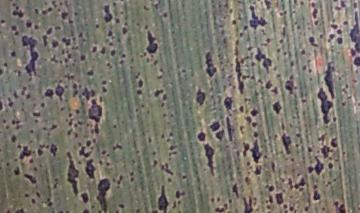tarspot: (61, 150, 81, 198), (20, 34, 41, 78), (313, 86, 332, 126), (253, 45, 275, 75), (322, 59, 338, 100), (95, 176, 112, 213), (247, 2, 268, 30), (201, 141, 217, 176), (201, 50, 219, 79), (233, 55, 245, 98), (143, 28, 161, 56), (86, 98, 105, 123), (350, 9, 360, 56), (156, 183, 170, 213), (279, 129, 294, 156), (249, 139, 263, 164), (83, 156, 97, 180), (223, 116, 234, 144), (101, 2, 113, 26), (283, 73, 296, 95), (21, 173, 42, 186), (193, 87, 207, 106), (17, 145, 33, 161), (270, 98, 285, 115), (333, 195, 346, 213), (222, 93, 233, 114), (307, 34, 320, 51), (229, 181, 241, 199), (320, 143, 332, 161), (241, 197, 254, 213), (239, 139, 251, 156), (313, 157, 323, 177), (53, 84, 64, 101), (77, 190, 91, 203), (208, 118, 220, 133), (49, 140, 58, 159), (172, 187, 186, 199), (111, 140, 123, 154), (293, 176, 307, 188), (60, 33, 72, 46), (76, 52, 89, 64), (151, 86, 165, 97), (252, 163, 263, 177), (10, 165, 22, 177), (104, 27, 116, 39), (85, 65, 96, 78), (29, 109, 42, 120), (47, 120, 58, 133), (10, 8, 24, 18), (351, 55, 360, 70), (196, 131, 207, 143), (249, 106, 260, 118), (49, 38, 60, 50), (334, 35, 345, 47), (115, 200, 127, 211), (312, 190, 322, 203), (275, 192, 284, 206), (43, 87, 54, 98), (8, 22, 19, 33), (310, 7, 320, 19), (26, 125, 36, 137), (230, 16, 239, 29), (8, 133, 19, 143), (265, 182, 275, 193), (8, 48, 18, 59), (88, 44, 98, 55), (42, 25, 53, 35), (83, 137, 93, 148), (328, 19, 338, 30), (136, 76, 145, 88), (108, 47, 117, 59), (118, 26, 130, 35), (264, 77, 272, 90), (250, 130, 260, 140), (98, 77, 108, 87), (249, 120, 260, 129), (24, 20, 35, 29), (305, 164, 314, 175), (32, 5, 41, 16), (58, 11, 70, 19), (324, 162, 336, 170), (305, 145, 314, 155), (21, 190, 31, 199), (73, 106, 82, 116), (310, 19, 321, 27), (300, 47, 308, 58), (135, 88, 144, 97), (100, 87, 110, 95), (37, 146, 43, 158), (264, 36, 272, 45), (288, 204, 296, 213), (32, 190, 41, 198), (237, 105, 245, 113)
